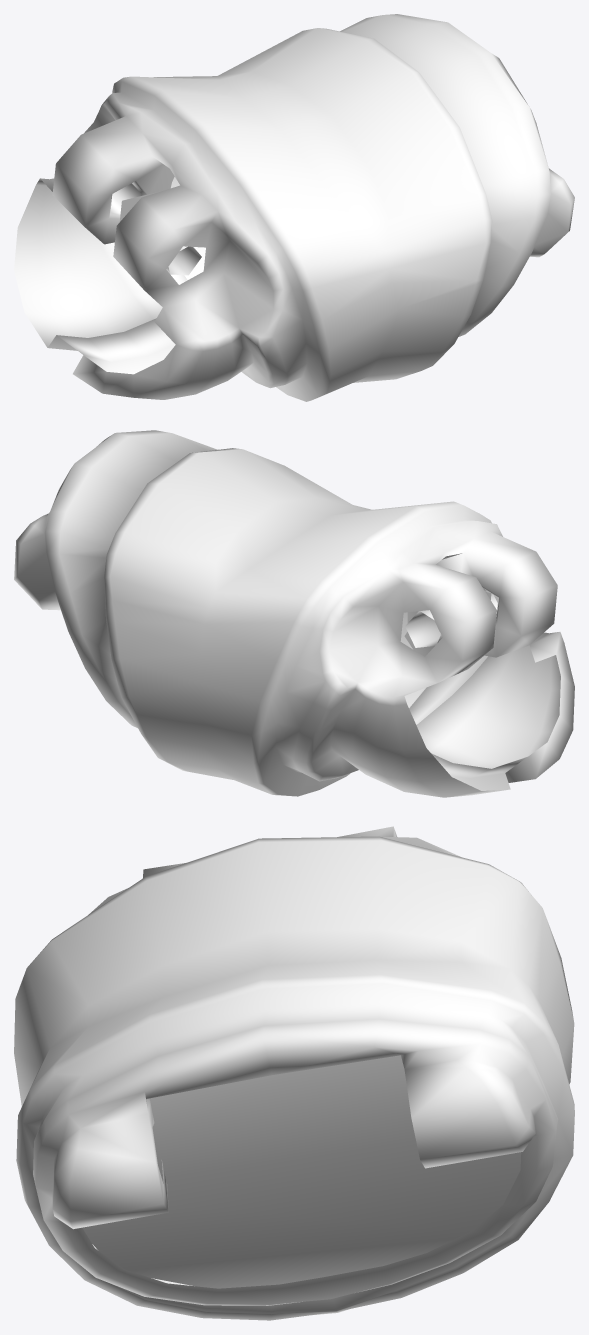
The model's file is RFinger21.dae.
3 renders of one model, top to bottom at view 1: azimuth 30°, elevation 25°; view 2: azimuth 150°, elevation 25°; view 3: azimuth 270°, elevation 25°, orthographic. The views are drawn at different scales.
Visible parts, largest first — view 1: RFinger21; view 2: RFinger21; view 3: RFinger21.
Part boxes in pixels (x1,y1,x2,y2): RFinger21: [14, 14, 574, 401]; RFinger21: [14, 430, 574, 797]; RFinger21: [14, 826, 574, 1320].
Bounding box in the file's own units: 0.0194 × 0.0159 × 0.012.
